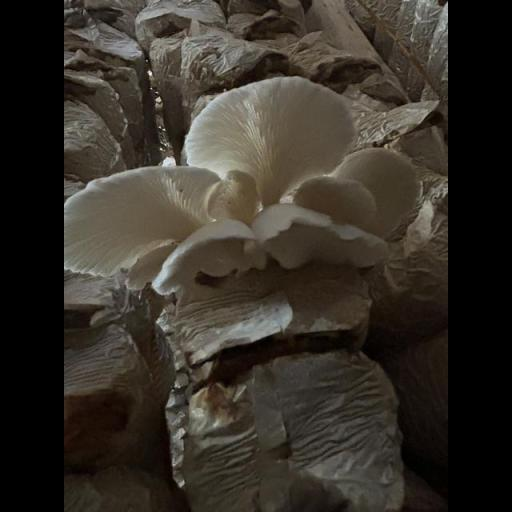White Oyster Mushroom: (62, 77, 419, 290)
